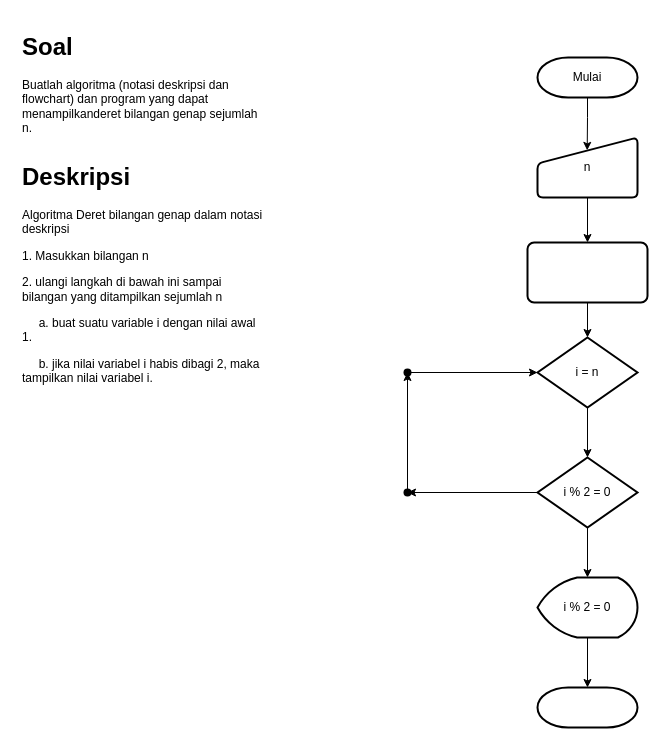
The diagram is 665 pixels wide and 745 high, and some of its shapes have lost their labels. The shapes that lost their labels are listed below. From the top down, each one's centre as x and y in pixels, then its label:
[587,272]: i = 1
[587,707]: Selesai
